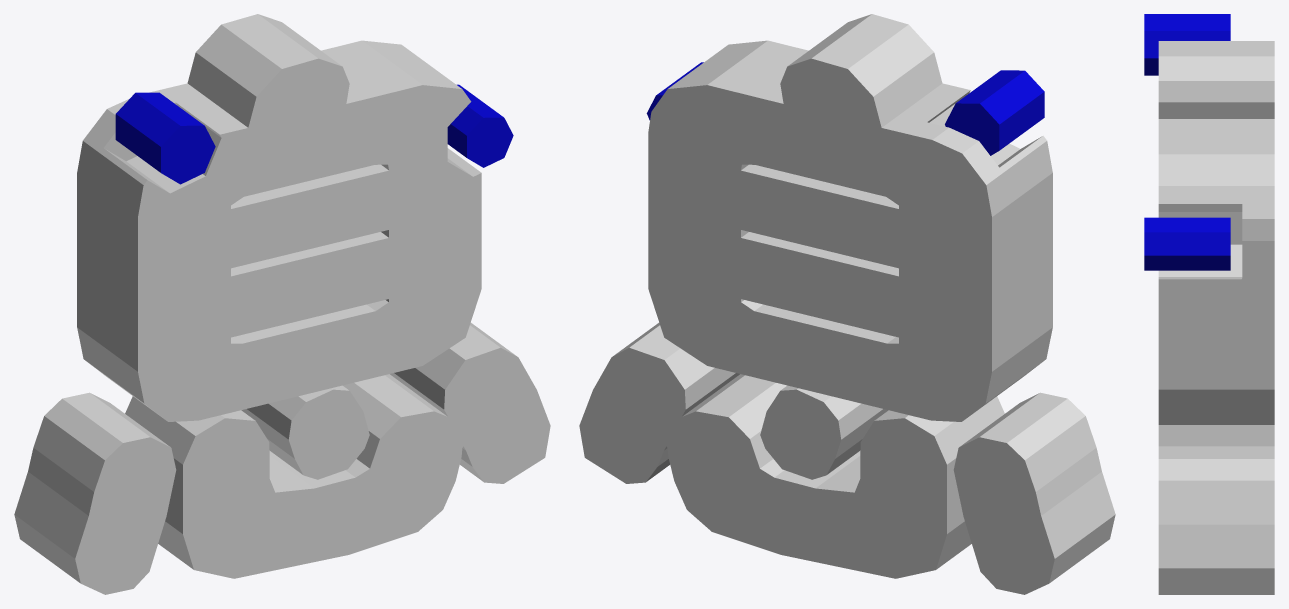
File: Ch_Lite_China_息_01.fbx
3 views of the same model, side by side, from view 1: azimuth 30°, elevation 25°; view 2: azimuth 150°, elevation 25°; view 3: azimuth 270°, elevation 25° (orthographic). The views are drawn at different scales.
Visible parts, largest first — view 1: sphere1; view 2: sphere1; view 3: sphere1.
Boxes of the visible parts, x1,y1,x2,y2 form: sphere1: (14,14,550,594); sphere1: (579,14,1115,594); sphere1: (1144,14,1274,594).
Bounding box in the file's own units: 0.9023 × 0.9136 × 0.2242.
